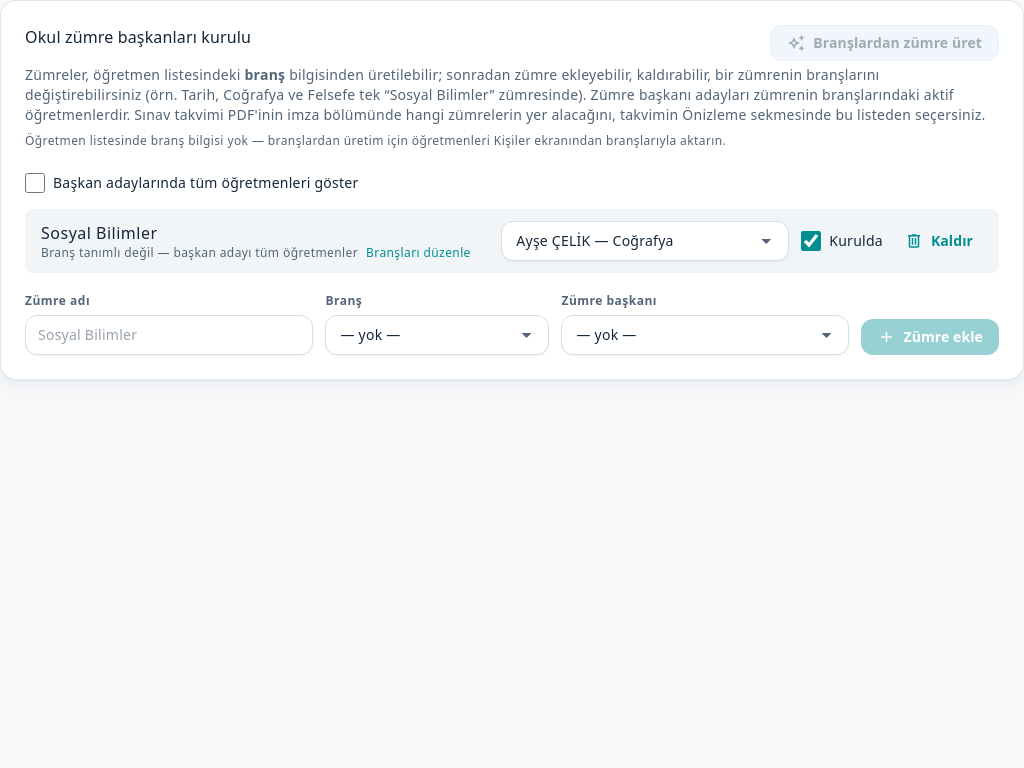
Test: ZumrelerPaneli › satırdan başkan değişimi sessiz geçmez — kaydedildiği bildirilir
Select "Bora ARSLAN — Matematik" in the dropdown named "Sosyal Bilimler zümre başkanı". click: (633, 241)
box: [512,231,754,251]
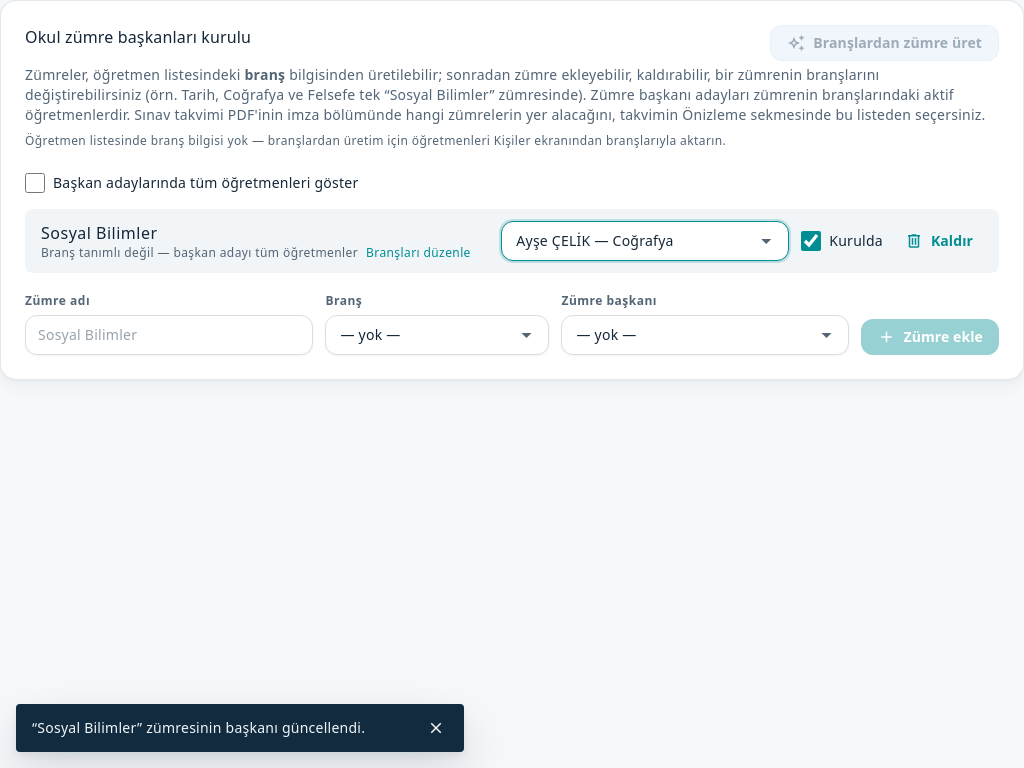
Expected: the text "“Sosyal Bilimler” zümresinin başkanı güncellendi." is shown, [32,718,365,737]
